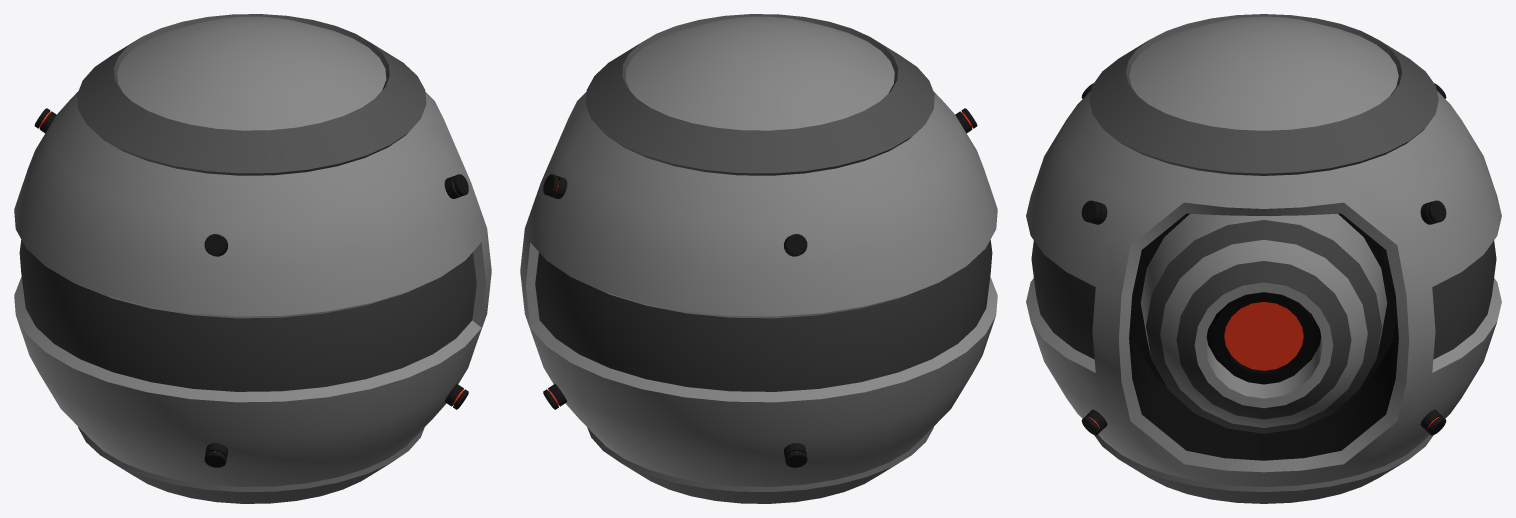
Rendered from EvilBall.glb.
3 views of the same model, side by side, from view 1: azimuth 30°, elevation 25°; view 2: azimuth 150°, elevation 25°; view 3: azimuth 270°, elevation 25° (orthographic).
Visible parts, largest first — view 1: Sphere, Cylinder; view 2: Sphere, Cylinder; view 3: Sphere, Cylinder.
Boxes of the visible parts, x1,y1,x2,y2 form: Sphere: (14,14,491,503); Cylinder: (34,108,468,467); Sphere: (520,14,997,503); Cylinder: (543,108,977,467); Sphere: (1026,14,1501,503); Cylinder: (1081,83,1446,435).
Bounding box in the file's own units: 1.82 × 2 × 1.96.
1 material, 1 textured.
